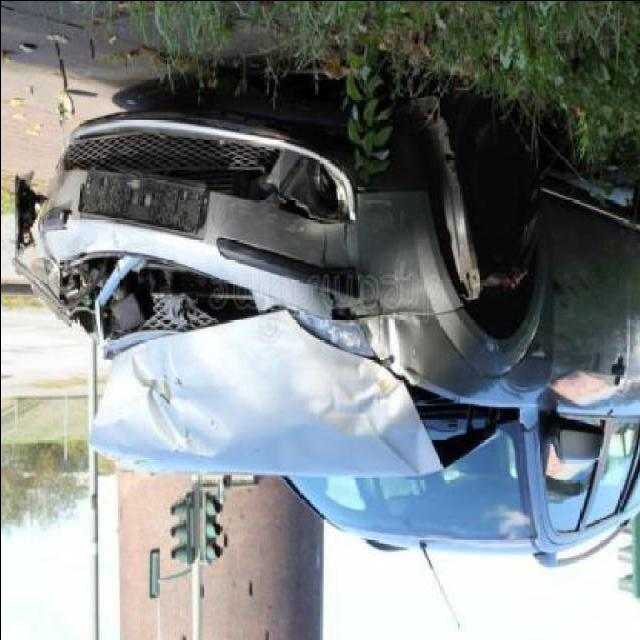bonnet-dent: (32, 256, 478, 486)
front-bumper-dent: (181, 109, 471, 339)
